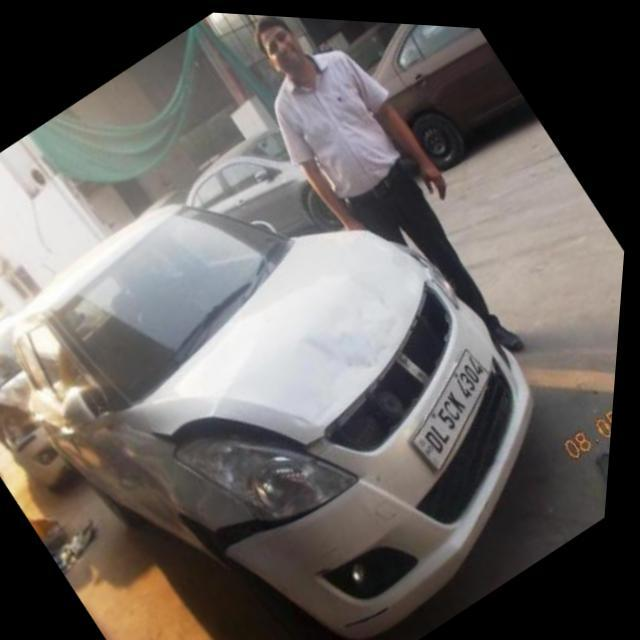crack: (352, 600, 400, 623), (321, 560, 342, 574)
dent: (296, 268, 428, 424)
dislocated part: (217, 487, 354, 550), (158, 413, 324, 454), (310, 429, 345, 454)
no part: (330, 272, 463, 448)
scratch: (211, 294, 295, 416), (289, 254, 414, 298), (323, 225, 373, 271), (244, 551, 299, 589), (323, 541, 349, 555)
